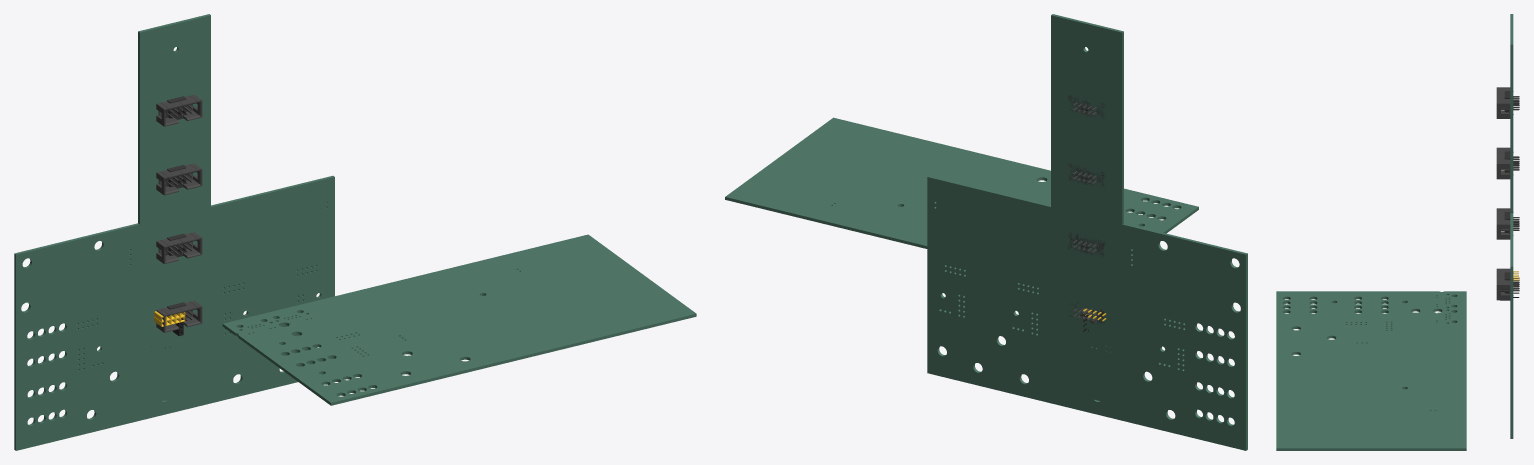
The model's file is bmu-assembly.glb.
3 views of the same model, side by side, from view 1: azimuth 30°, elevation 25°; view 2: azimuth 150°, elevation 25°; view 3: azimuth 270°, elevation 25° (orthographic). The views are drawn at different scales.
Visible parts, largest first — view 1: bmu_v2_3d.step_81, bmu_v2_kicad.glb_4, world, bmu_switch.step_18, bmu_v2_kicad.glb, bmu_switch.step_16; view 2: bmu_v2_3d.step_81, bmu_v2_kicad.glb_4, world, bmu_switch.step_18, bmu_v2_kicad.glb_5; view 3: bmu_v2_kicad.glb_4, world, bmu_v2_3d.step_81, bmu_v2_kicad.glb_1, bmu_switch.step_16.
Boxes of the visible parts, left/top/right/bottom form: bmu_v2_3d.step_81: left=14, top=175, right=334, bottom=450; bmu_v2_kicad.glb_4: left=223, top=234, right=696, bottom=402; world: left=138, top=14, right=210, bottom=336; bmu_switch.step_18: left=140, top=223, right=210, bottom=405; bmu_v2_kicad.glb: left=331, top=314, right=696, bottom=405; bmu_switch.step_16: left=156, top=300, right=202, bottom=332; bmu_v2_3d.step_81: left=927, top=175, right=1247, bottom=450; bmu_v2_kicad.glb_4: left=725, top=117, right=1198, bottom=245; world: left=1051, top=14, right=1123, bottom=333; bmu_switch.step_18: left=1051, top=222, right=1122, bottom=405; bmu_v2_kicad.glb_5: left=725, top=197, right=927, bottom=248; bmu_v2_kicad.glb_4: left=1276, top=291, right=1466, bottom=448; world: left=1496, top=14, right=1519, bottom=239; bmu_v2_3d.step_81: left=1510, top=213, right=1513, bottom=438; bmu_v2_kicad.glb_1: left=1276, top=448, right=1466, bottom=450; bmu_switch.step_16: left=1496, top=268, right=1519, bottom=300.
Size of the model in its own units: 0.2919 by 0.1978 by 0.1278.
